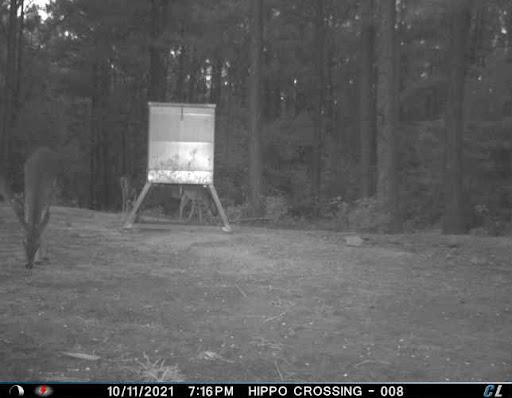Deer: (9, 139, 69, 275), (175, 179, 220, 229), (116, 176, 148, 237)
